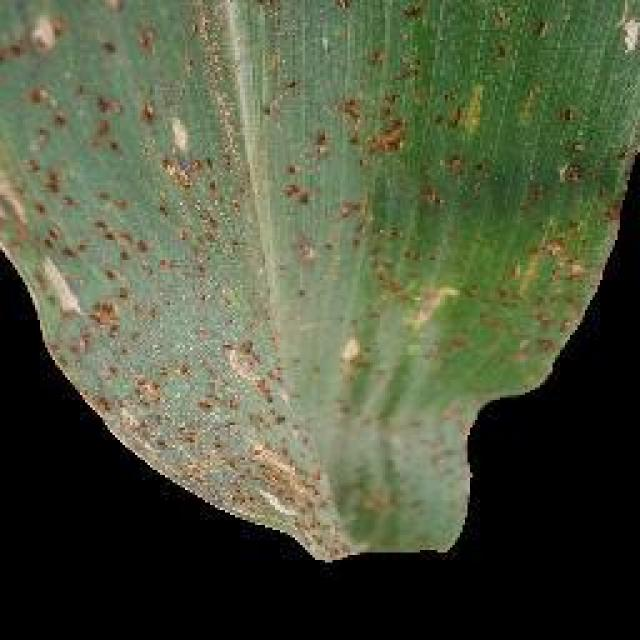Corn Common Rust: (15, 18, 582, 480)
